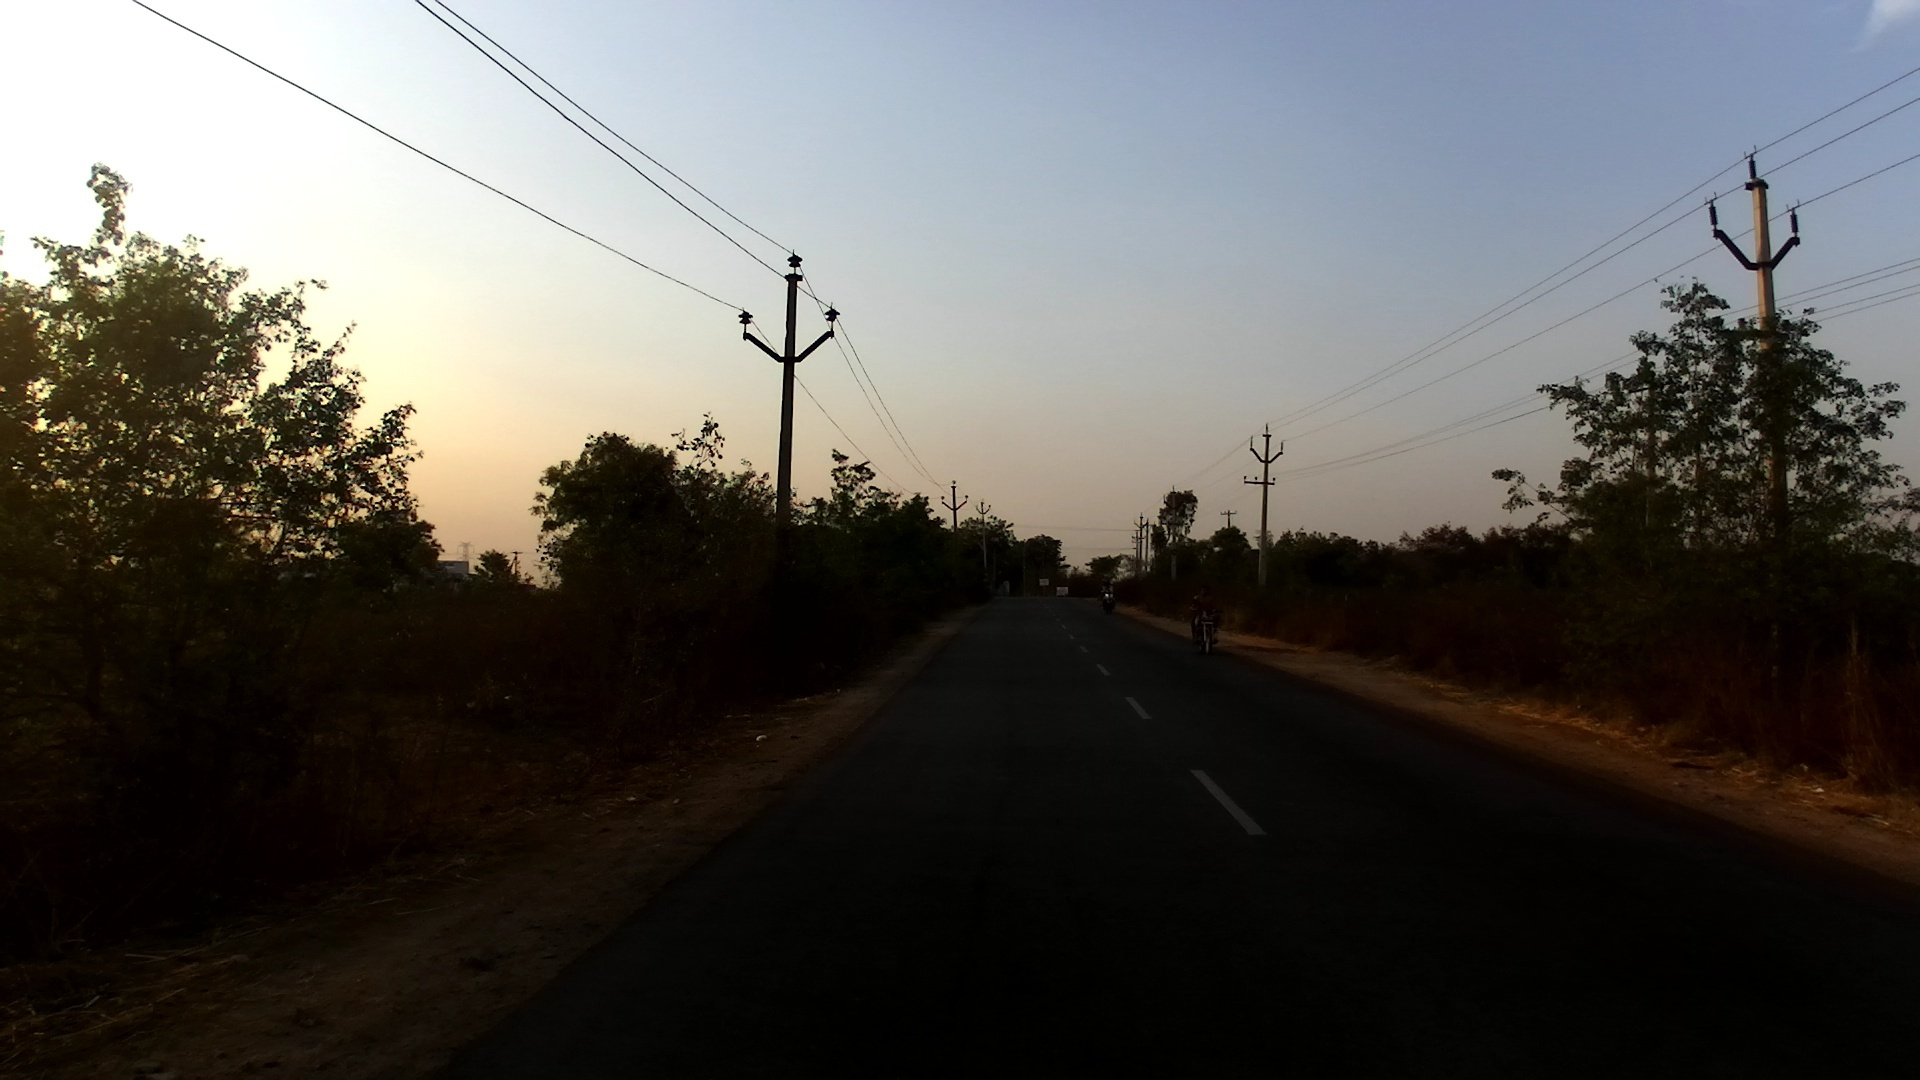motorcycle: (1193, 603, 1222, 658), (1100, 589, 1120, 616)
rider: (1190, 585, 1222, 643), (1099, 579, 1115, 606)
